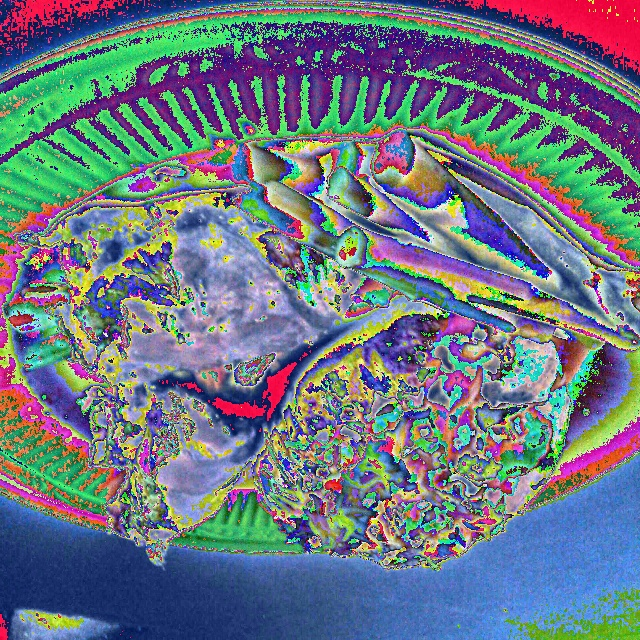background: (1, 130, 639, 571)
